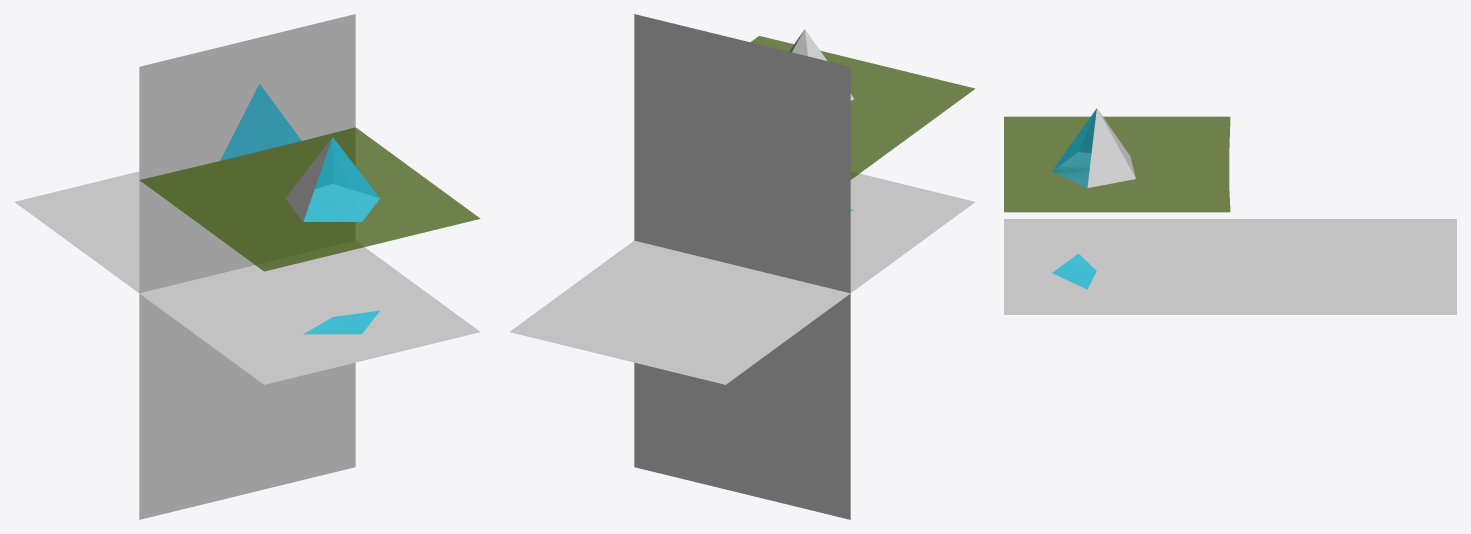
Rendered from horizontal.dae.
3 renders of one model, left to right at view 1: azimuth 30°, elevation 25°; view 2: azimuth 150°, elevation 25°; view 3: azimuth 270°, elevation 25°, orthographic. The views are drawn at different scales.
Parts seen in each view (by area): view 1: eixos, SketchUp (×4), Piramide_Base_Pentagonal (×2); view 2: eixos, SketchUp, Piramide_Base_Pentagonal; view 3: eixos, SketchUp (×3), Piramide_Base_Pentagonal (×2).
Boxes of the visible parts, x1,y1,x2,y2 form: eixos: (15,14,479,519); SketchUp (×4): (139,83,480,334); Piramide_Base_Pentagonal (×2): (285,137,379,221); eixos: (510,14,974,519); SketchUp: (751,36,975,179); Piramide_Base_Pentagonal: (789,29,853,100); eixos: (1004,219,1456,314); SketchUp (×3): (1004,116,1230,289); Piramide_Base_Pentagonal (×2): (1052,108,1135,187).
Size of the model in its own units: 3.94 by 7.87 by 7.87.
Materials: 3 (1 with a texture image).
